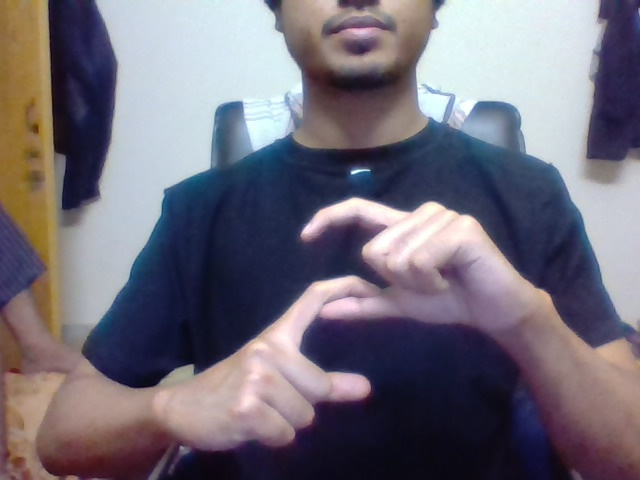S: (296, 194, 392, 408)
